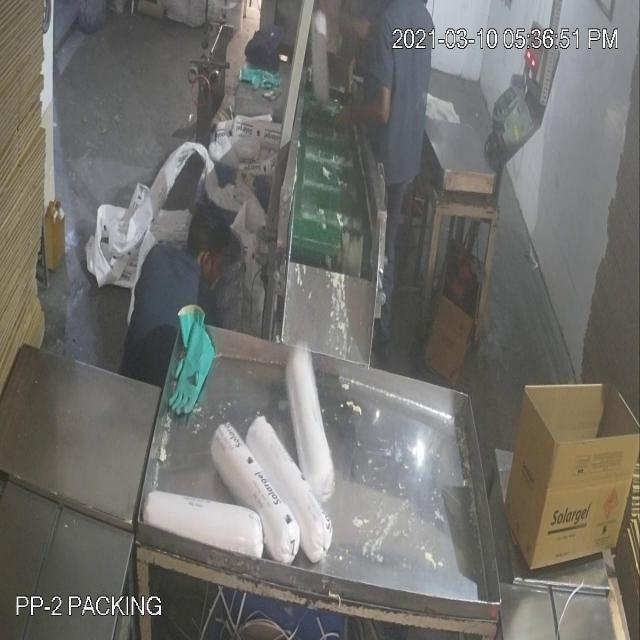No_Gloves: (332, 78, 396, 152)
